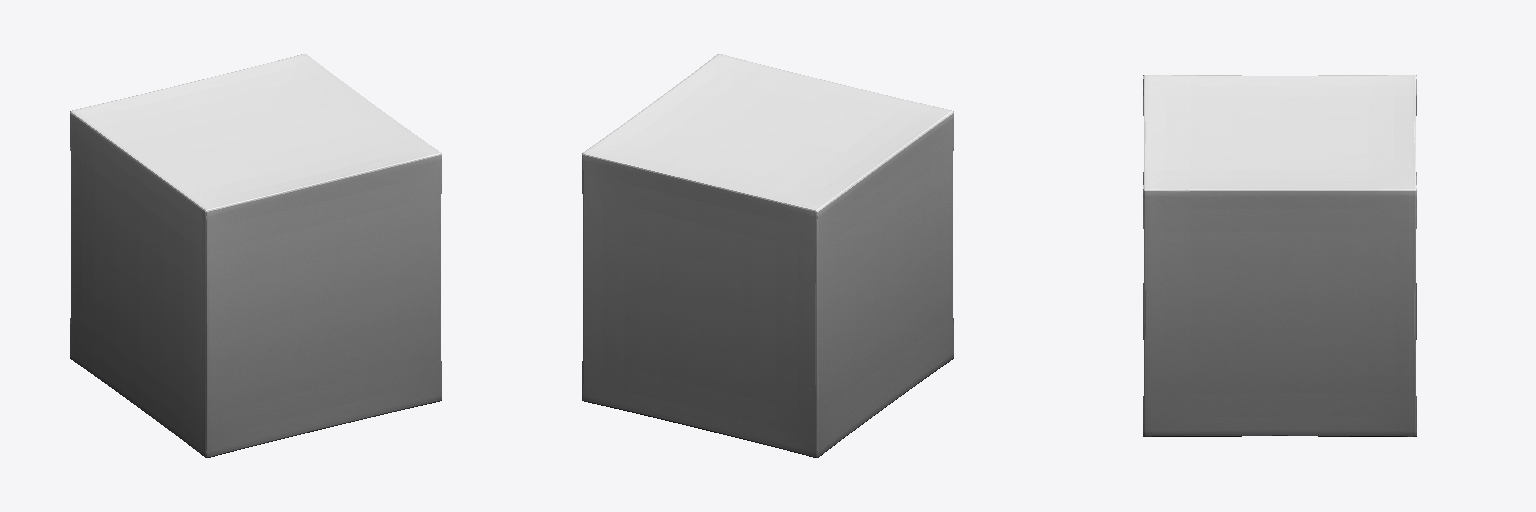
3 renders of one model, left to right at view 1: azimuth 30°, elevation 25°; view 2: azimuth 150°, elevation 25°; view 3: azimuth 270°, elevation 25°, orthographic.
Parts seen in each view (by area): view 1: Cube; view 2: Cube; view 3: Cube.
Part boxes in pixels (x1,y1,x2,y2): Cube: (70, 54, 441, 457); Cube: (582, 54, 953, 457); Cube: (1143, 75, 1416, 436).
Size of the model in its own units: 19.75 by 19.78 by 19.77.
1 materials, 1 textured.